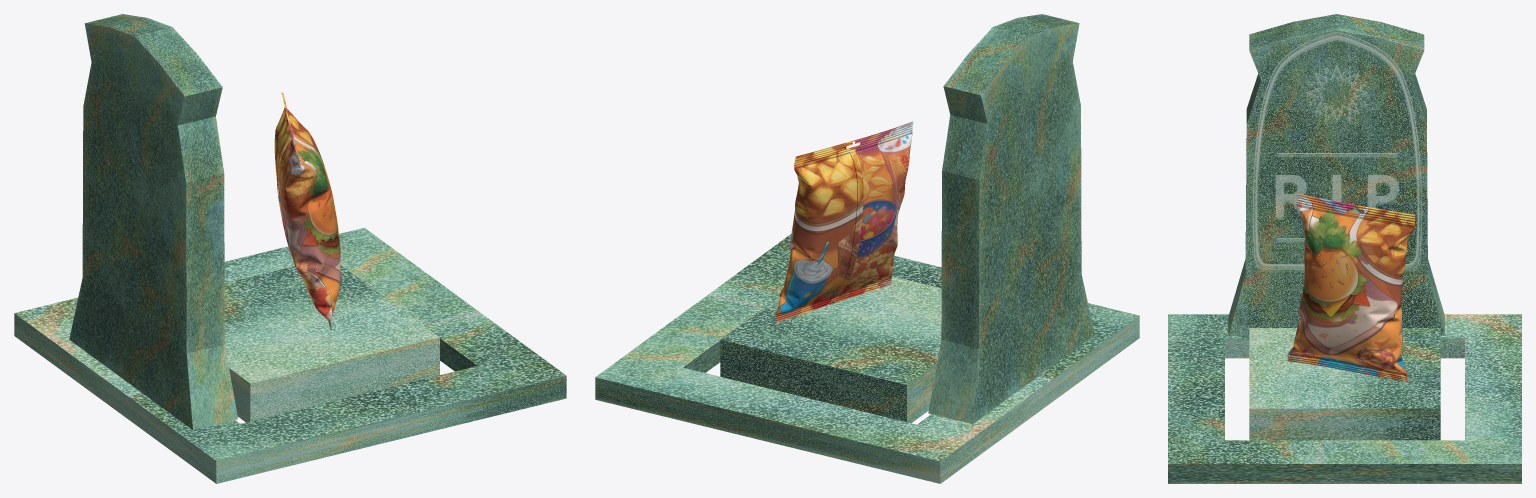
File: meme4.glb
3 views of the same model, side by side, from view 1: azimuth 30°, elevation 25°; view 2: azimuth 150°, elevation 25°; view 3: azimuth 270°, elevation 25° (orthographic). The views are drawn at different scales.
Visible parts, largest first — view 1: Cube.034, Cube.026, Cube.027, hanging_package; view 2: Cube.034, Cube.026, Cube.027, hanging_package; view 3: Cube.034, Cube.026, hanging_package, Cube.027.
Part boxes in pixels (bbox=[...]): Cube.034: bbox=[69, 14, 237, 429]; Cube.026: bbox=[14, 227, 566, 483]; Cube.027: bbox=[224, 265, 439, 422]; hanging_package: bbox=[274, 93, 340, 329]; Cube.034: bbox=[928, 14, 1094, 424]; Cube.026: bbox=[595, 234, 1139, 483]; Cube.027: bbox=[720, 276, 941, 423]; hanging_package: bbox=[775, 121, 913, 321]; Cube.034: bbox=[1228, 14, 1444, 335]; Cube.026: bbox=[1168, 314, 1521, 483]; hanging_package: bbox=[1287, 193, 1415, 381]; Cube.027: bbox=[1249, 328, 1440, 440].
Bounding box in the file's own units: 0.7549 × 0.7688 × 0.7549.
3 materials, 3 textured.
